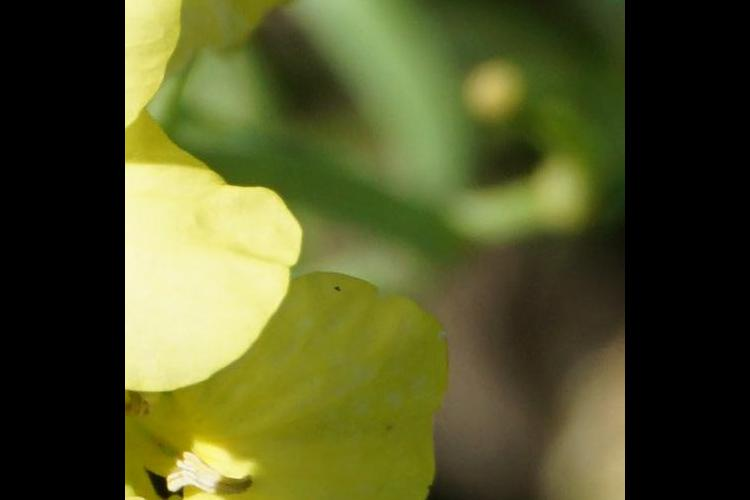yellow: (134, 171, 448, 500)
